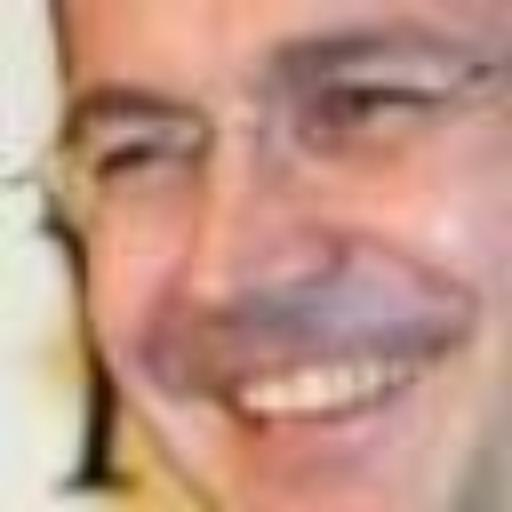left_eye: (315, 80, 438, 137)
left_lip_corner: (408, 321, 468, 367)
right_eye: (95, 126, 192, 186)
